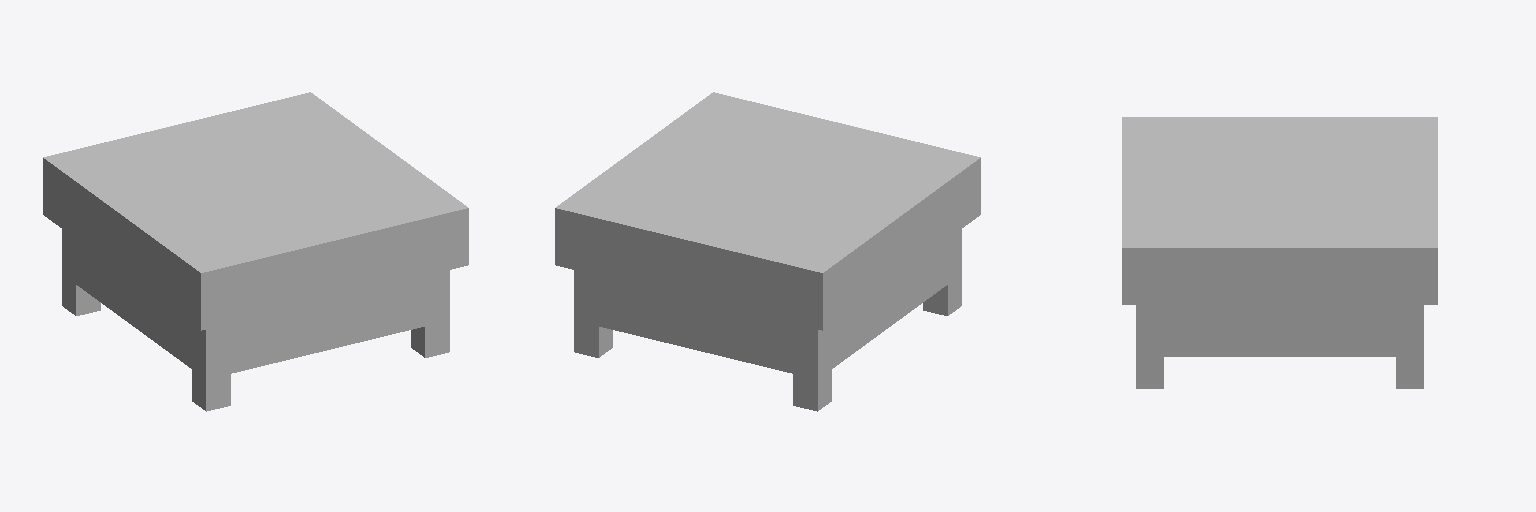
Rendered from couch set 0.obj.
The picture shows the model from 3 angles: view 1: azimuth 30°, elevation 25°; view 2: azimuth 150°, elevation 25°; view 3: azimuth 270°, elevation 25°; orthographic projection.
Parts seen in each view (by area): view 1: loungeSofaOttoman; view 2: loungeSofaOttoman; view 3: loungeSofaOttoman.
Part boxes in pixels (left/top/right/bottom): loungeSofaOttoman: left=43, top=92, right=468, bottom=411; loungeSofaOttoman: left=555, top=92, right=980, bottom=411; loungeSofaOttoman: left=1122, top=117, right=1437, bottom=388.
Size of the model in its own units: 0.4398 by 0.23 by 0.45.